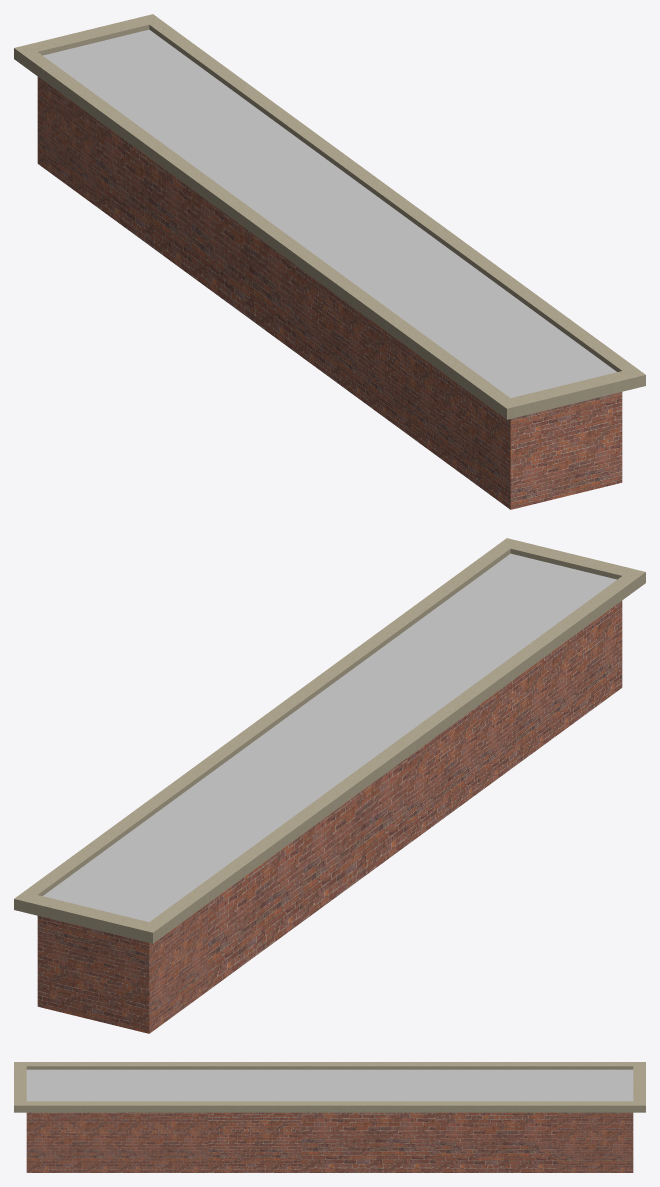
The model's file is brick wall.fbx.
The picture shows the model from 3 angles, top to bottom: view 1: azimuth 30°, elevation 25°; view 2: azimuth 150°, elevation 25°; view 3: azimuth 270°, elevation 25°; orthographic projection. The views are drawn at different scales.
Visible parts, largest first — view 1: bricks; view 2: bricks; view 3: bricks.
Boxes of the visible parts, x1,y1,x2,y2 form: bricks: (14, 14, 645, 509); bricks: (14, 538, 645, 1033); bricks: (14, 1062, 645, 1172).
Size of the model in its own units: 8.91 by 6.84 by 54.72.
